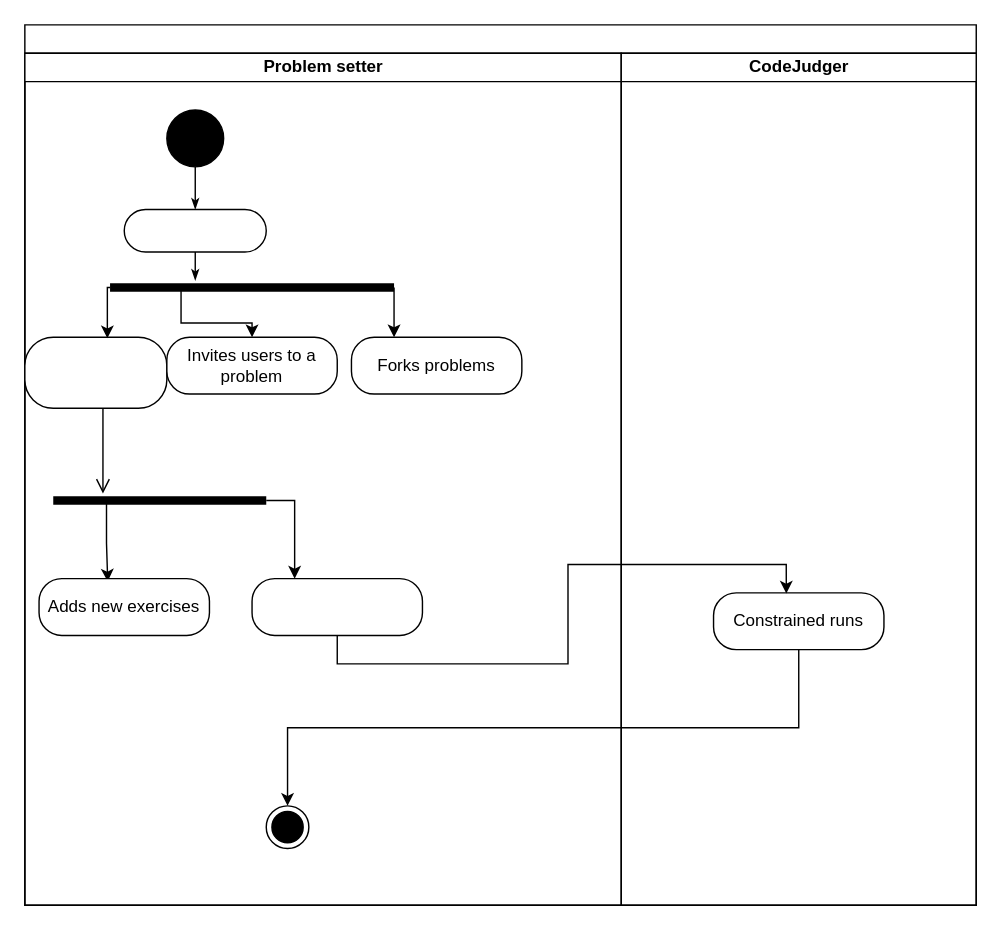
This 1001x930 diagram has some shape labels left out. Here are the shapes that lost their labels. From the top down, the centre of each, then its label:
At (x=194, y=230): "Log in".
At (x=95, y=372): "Has access to all exersises in CodeJudger".
At (x=336, y=606): "Provides solution to exercises".
